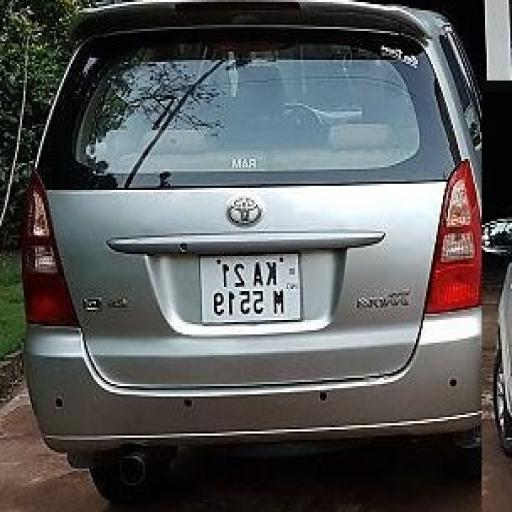License: (202, 250, 303, 320)
